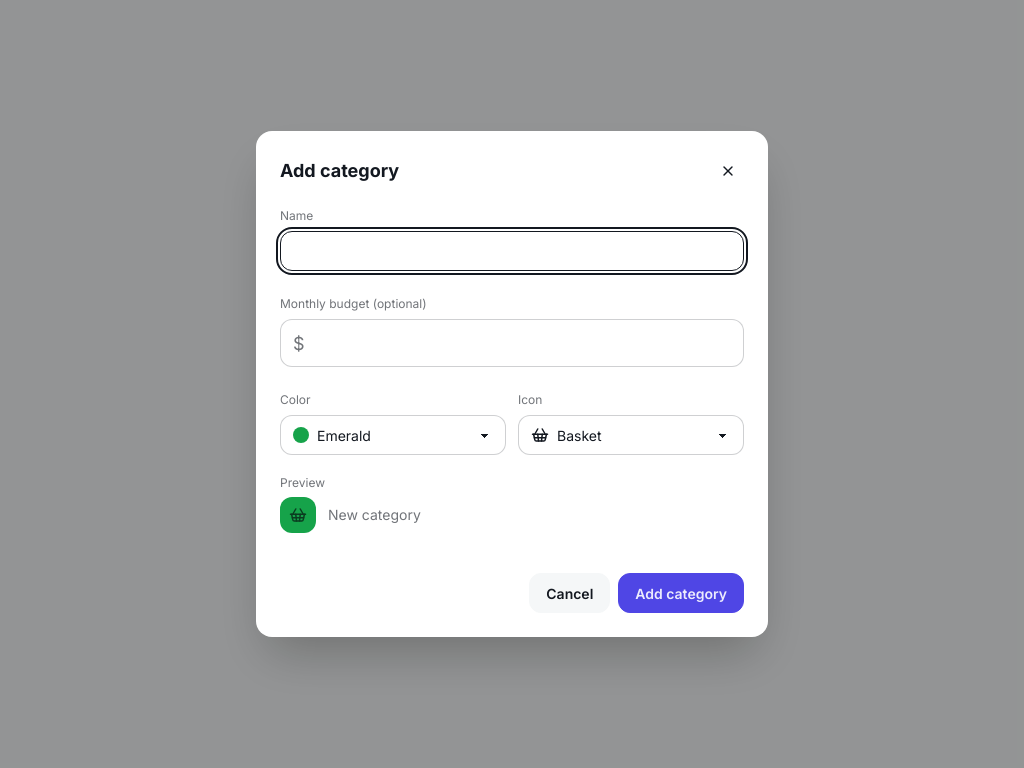
Scenario: AC3: validation › keeps the modal open and creates nothing when the name is missing
Click the button "Add category" at (681, 593), box [618,573,744,613]
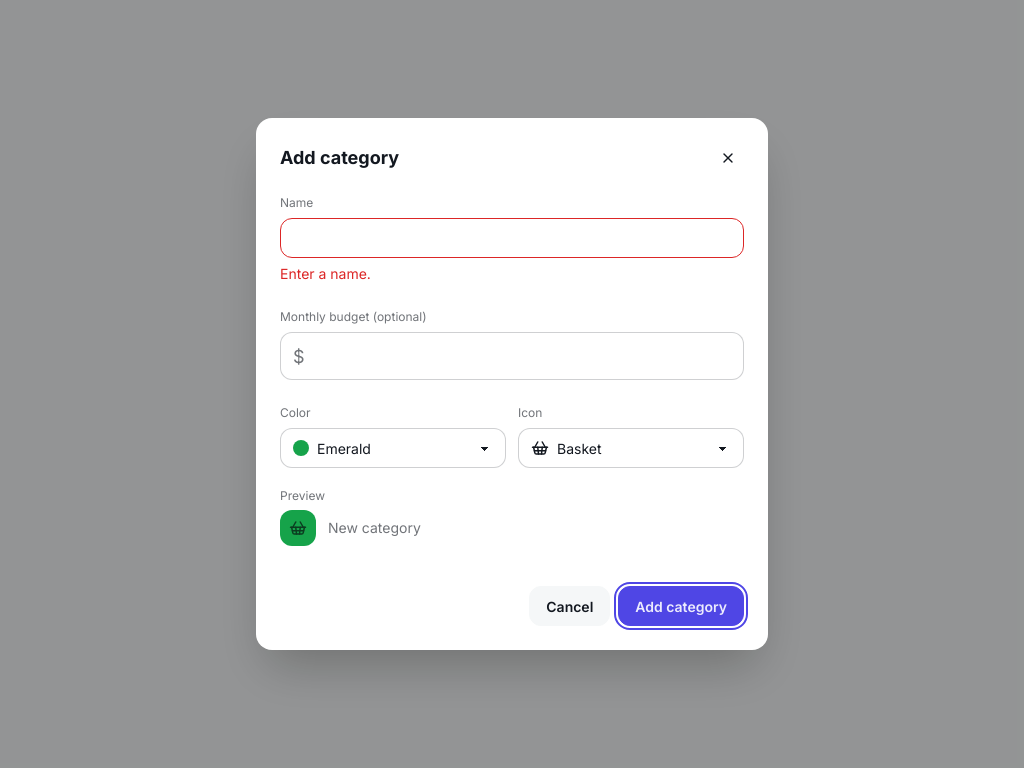
Expected: the text "Enter a name." is shown, [280,265,371,282]
